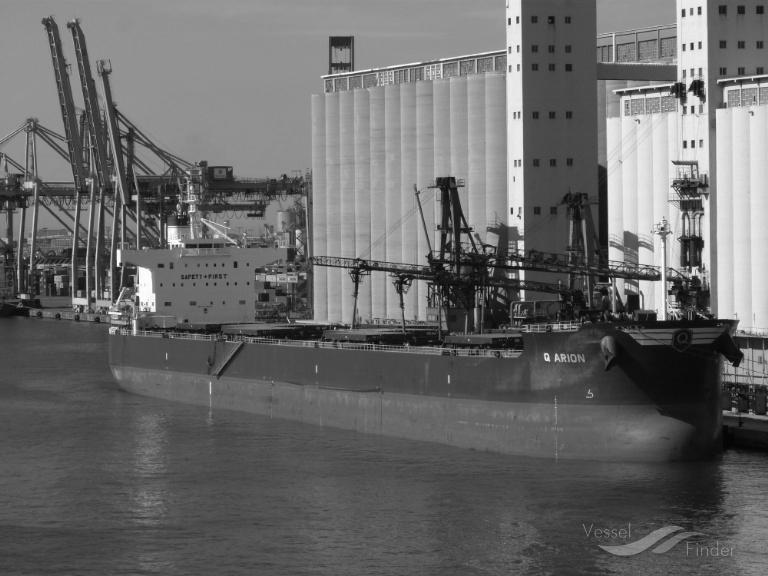OCR: (540, 343, 596, 375)
